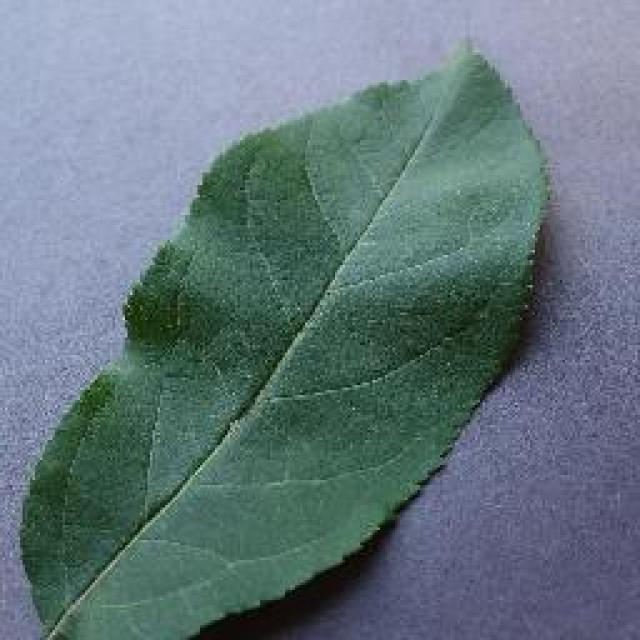apple healthy: (15, 35, 555, 637)
